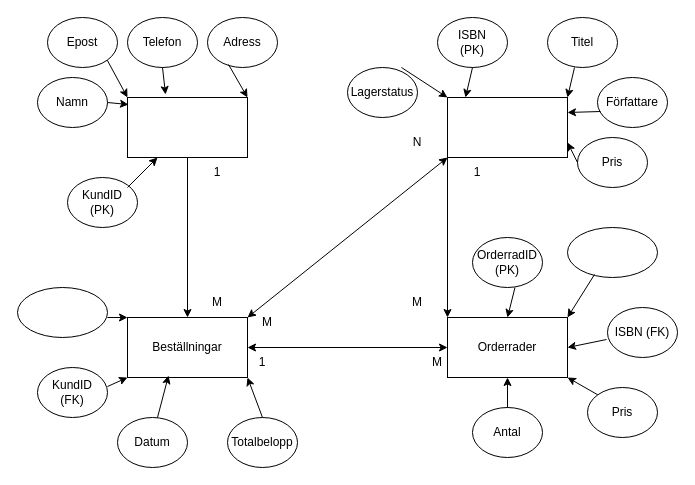
This 695x485 diagram has some shape labels left out. Here are the shapes that lost their labels. From the top down, the box of each, then its label:
(126, 96, 248, 158): Kunder
(446, 96, 568, 158): Böcker
(566, 226, 658, 278): Ordernummer (FK)
(16, 286, 108, 338): Ordernummer (PK)
